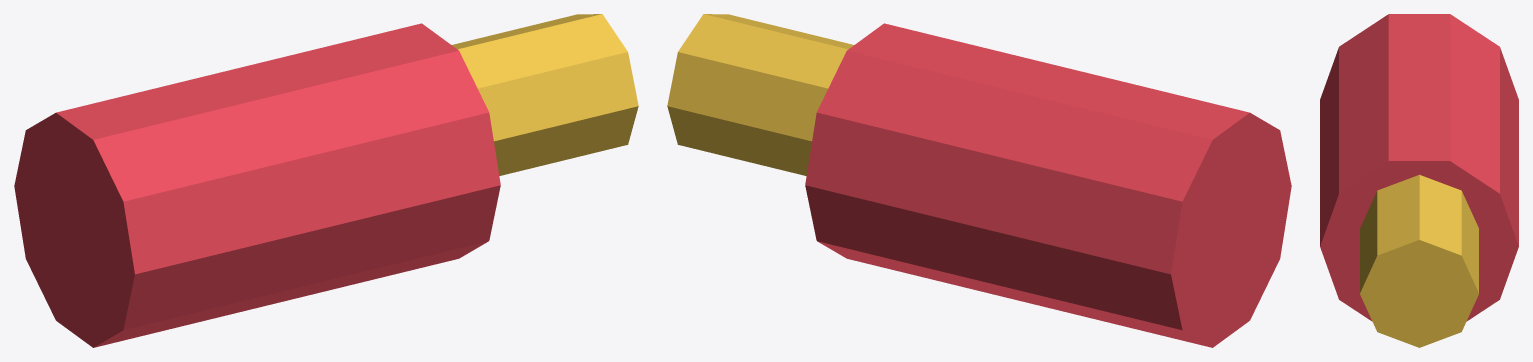
File: whistle.glb
3 views of the same model, side by side, from view 1: azimuth 30°, elevation 25°; view 2: azimuth 150°, elevation 25°; view 3: azimuth 270°, elevation 25° (orthographic). The views are drawn at different scales.
Parts seen in each view (by area): view 1: whistle; view 2: whistle; view 3: whistle.
Boxes of the visible parts, bbox=[...] form: whistle: bbox=[14, 14, 638, 347]; whistle: bbox=[667, 14, 1291, 347]; whistle: bbox=[1320, 14, 1518, 347].
Size of the model in its own units: 0.0505 by 0.019 by 0.02.
